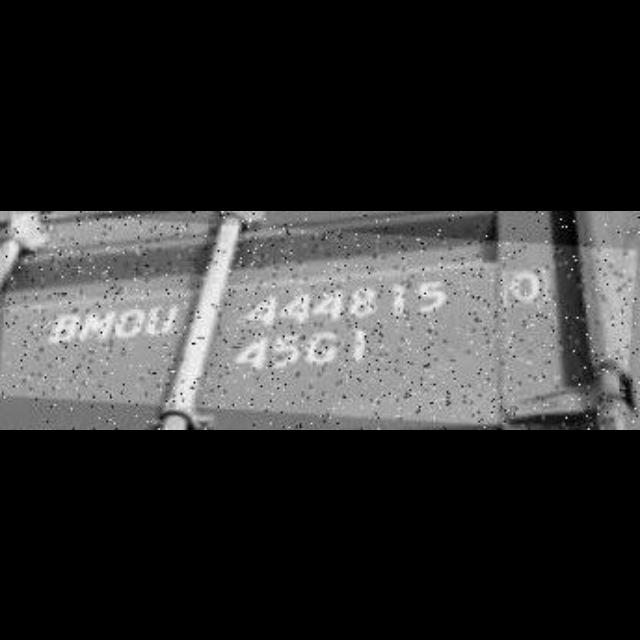0: (502, 267, 546, 307)
1: (345, 320, 373, 374), (386, 277, 412, 323)
4: (233, 331, 273, 379), (245, 288, 281, 332), (281, 286, 315, 328), (314, 283, 348, 325)
5: (414, 274, 452, 322), (269, 326, 305, 376)
8: (348, 279, 380, 321)
b: (51, 306, 84, 346)
g: (304, 325, 342, 373)
n: (78, 303, 118, 347)
o: (117, 300, 147, 342)
u: (147, 297, 185, 343)
